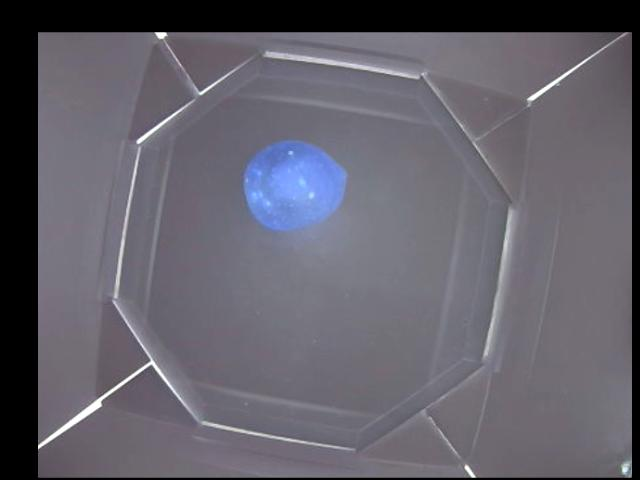Potato: (245, 141, 348, 229)
